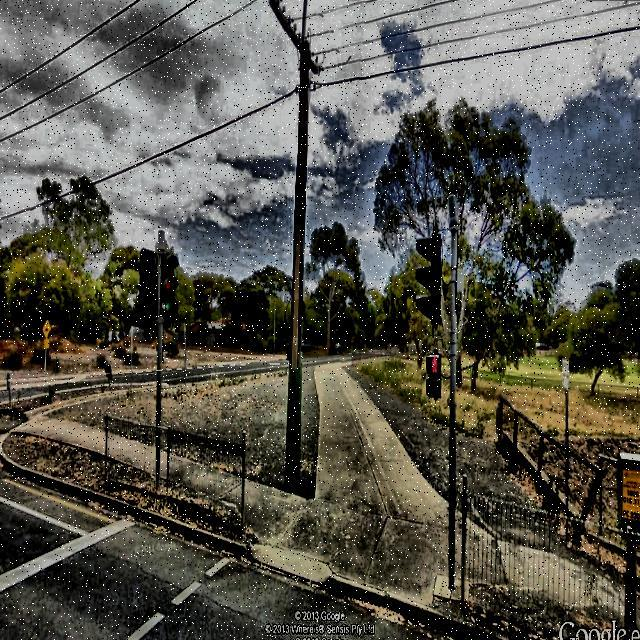red_light: (431, 356, 438, 376)
